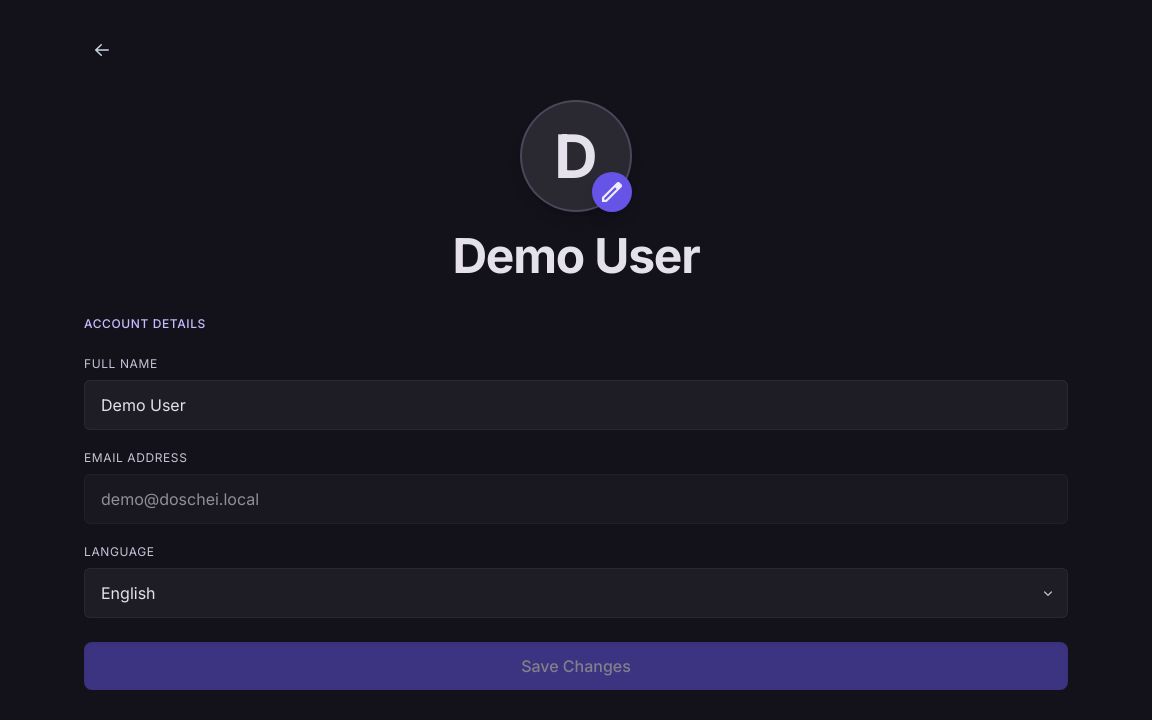
it: AccountView language selector › Save stays disabled until something changed
Check: the button with test id "account-save" is disabled, box [84,642,1068,690]
Select "Italiano" in the dropdown with test id "account-language" at [576, 593], box [84,568,1068,618]
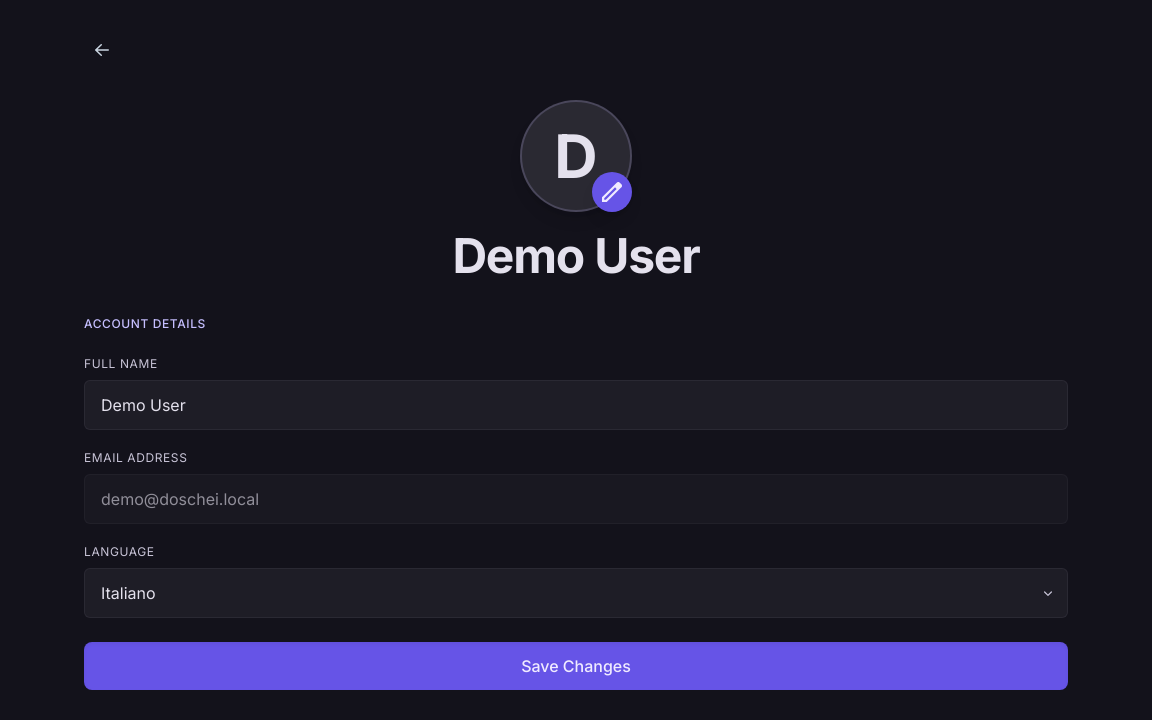
Check: the button with test id "account-save" is enabled, box [84,642,1068,690]
